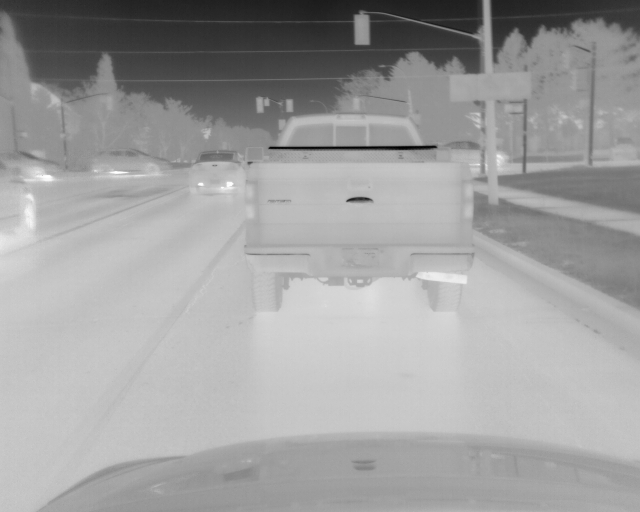car: (246, 112, 475, 313), (188, 148, 248, 196), (1, 166, 38, 236), (437, 139, 511, 174), (88, 148, 169, 176), (2, 151, 67, 184)
